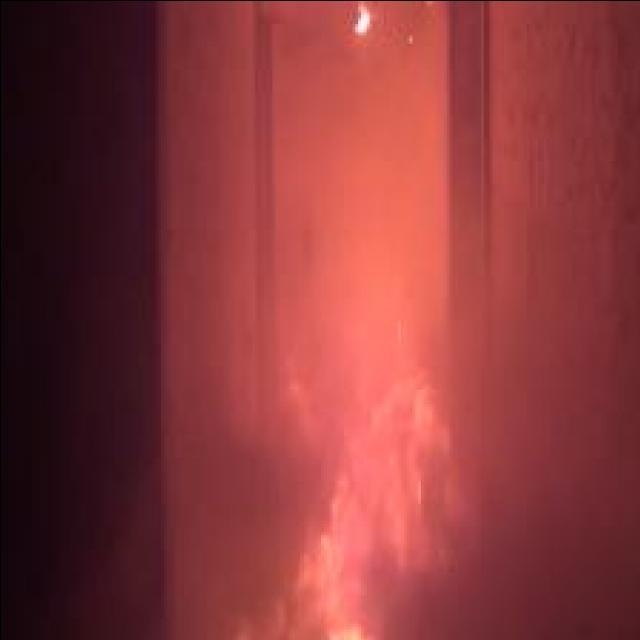Fire: (358, 0, 372, 37)
